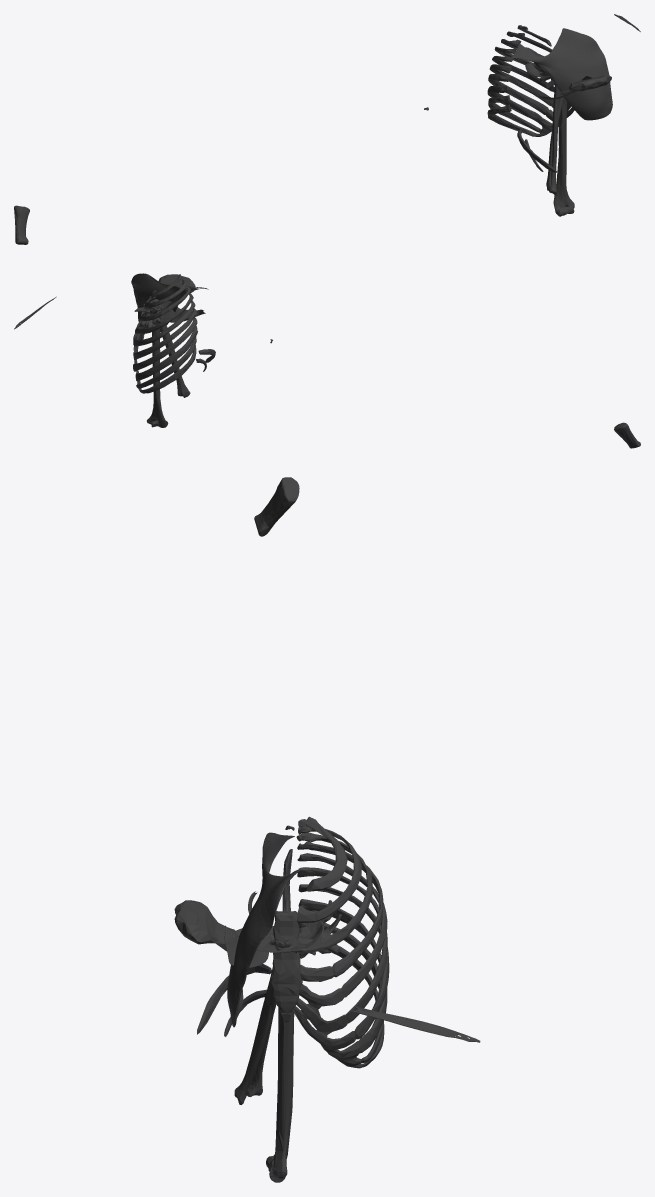
Rendered from sharedassets45.glb.
The picture shows the model from 3 angles, top to bottom: view 1: azimuth 30°, elevation 25°; view 2: azimuth 150°, elevation 25°; view 3: azimuth 270°, elevation 25°; orthographic projection. The views are drawn at different scales.
Visible parts, largest first — view 1: 0000_Pectoralis major, R__1000310, 0004_Humerus _arm, brachium_, R__000807, 0072_Seventh rib _07_, R__002279, 0063_Eighth rib _08_, R__002280, 0032_Ulna _forearm, antebrachium_, R__000808, 0071_Sixth rib _06_, R__002278, 0008_2nd Middle phalanx _hand_, R__000815, 0065_Tenth rib _10_, R__002282, 0064_Ninth rib _09_, R__002281, 0059_Manubrium__001162, 0070_Fifth rib _05_, R__002277; view 2: 0000_Pectoralis major, R__1000310, 0004_Humerus _arm, brachium_, R__000807, 0063_Eighth rib _08_, R__002280, 0072_Seventh rib _07_, R__002279, 0071_Sixth rib _06_, R__002278, 0064_Ninth rib _09_, R__002281, 0070_Fifth rib _05_, R__002277, 0065_Tenth rib _10_, R__002282, 0069_Fourth rib _04_, R__002276, 0008_2nd Middle phalanx _hand_, R__000815, 0068_Third rib _03_, R__002275, 0059_Manubrium__001162; view 3: 0000_Pectoralis major, R__1000310, 0004_Humerus _arm, brachium_, R__000807, 0060_Body of sternum__001163, 0071_Sixth rib _06_, R__002278, 0070_Fifth rib _05_, R__002277, 0072_Seventh rib _07_, R__002279, 0069_Fourth rib _04_, R__002276, 0059_Manubrium__001162, 0063_Eighth rib _08_, R__002280, 0068_Third rib _03_, R__002275, 0008_2nd Middle phalanx _hand_, R__000815, 0067_Second rib _02_, R__002274 (+4 smaller).
Part boxes in pixels (box(x1,y1,x2,y2)): 0000_Pectoralis major, R__1000310: box(511, 28, 612, 120); 0004_Humerus _arm, brachium_, R__000807: box(553, 98, 574, 216); 0072_Seventh rib _07_, R__002279: box(488, 74, 574, 121); 0063_Eighth rib _08_, R__002280: box(487, 85, 558, 132); 0032_Ulna _forearm, antebrachium_, R__000808: box(549, 83, 561, 195); 0071_Sixth rib _06_, R__002278: box(489, 64, 571, 110); 0008_2nd Middle phalanx _hand_, R__000815: box(14, 205, 29, 244); 0065_Tenth rib _10_, R__002282: box(487, 104, 545, 136); 0064_Ninth rib _09_, R__002281: box(488, 95, 549, 134); 0059_Manubrium__001162: box(568, 74, 611, 92); 0070_Fifth rib _05_, R__002277: box(492, 56, 554, 92); 0000_Pectoralis major, R__1000310: box(131, 273, 208, 331); 0004_Humerus _arm, brachium_, R__000807: box(147, 309, 168, 427); 0063_Eighth rib _08_, R__002280: box(135, 326, 197, 381); 0072_Seventh rib _07_, R__002279: box(133, 317, 197, 371); 0071_Sixth rib _06_, R__002278: box(133, 308, 197, 360); 0064_Ninth rib _09_, R__002281: box(136, 336, 196, 388); 0070_Fifth rib _05_, R__002277: box(133, 300, 195, 346); 0065_Tenth rib _10_, R__002282: box(138, 345, 196, 393); 0069_Fourth rib _04_, R__002276: box(135, 293, 193, 334); 0008_2nd Middle phalanx _hand_, R__000815: box(614, 422, 640, 448); 0068_Third rib _03_, R__002275: box(139, 286, 190, 321); 0059_Manubrium__001162: box(158, 274, 195, 292); 0000_Pectoralis major, R__1000310: box(227, 832, 300, 1027); 0004_Humerus _arm, brachium_, R__000807: box(266, 952, 294, 1182); 0060_Body of sternum__001163: box(270, 911, 302, 1013); 0071_Sixth rib _06_, R__002278: box(296, 867, 387, 1034); 0070_Fifth rib _05_, R__002277: box(297, 853, 387, 1009); 0072_Seventh rib _07_, R__002279: box(293, 884, 389, 1052); 0069_Fourth rib _04_, R__002276: box(297, 841, 383, 981); 0059_Manubrium__001162: box(174, 900, 235, 951); 0063_Eighth rib _08_, R__002280: box(298, 899, 387, 1062); 0068_Third rib _03_, R__002275: box(296, 832, 372, 953); 0008_2nd Middle phalanx _hand_, R__000815: box(254, 477, 299, 536); 0067_Second rib _02_, R__002274: box(297, 826, 361, 923).
Size of the model in its own units: 0.7785 by 0.2153 by 0.1801.
Materials: 1 (1 with a texture image).
